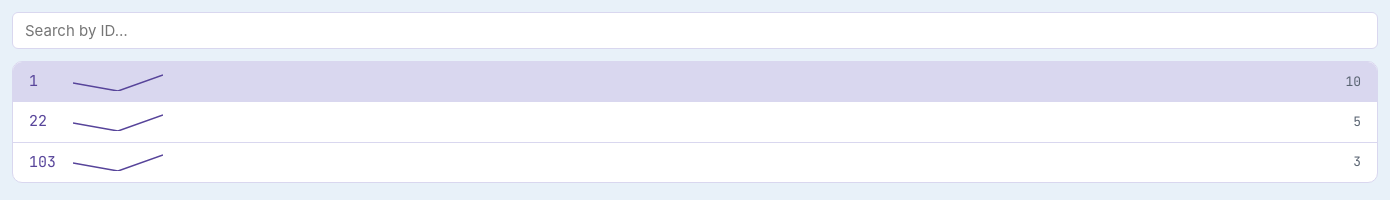
Test: UserList › filters to matching IDs as you type
Type "22" into the search field named "Search users" at coordinates (695, 30), box [12,12,1378,49]
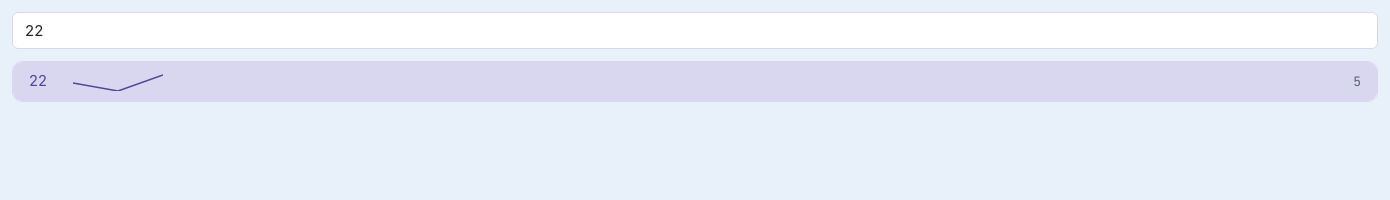
Now the number of options is 1, box [13,62,1377,101]
